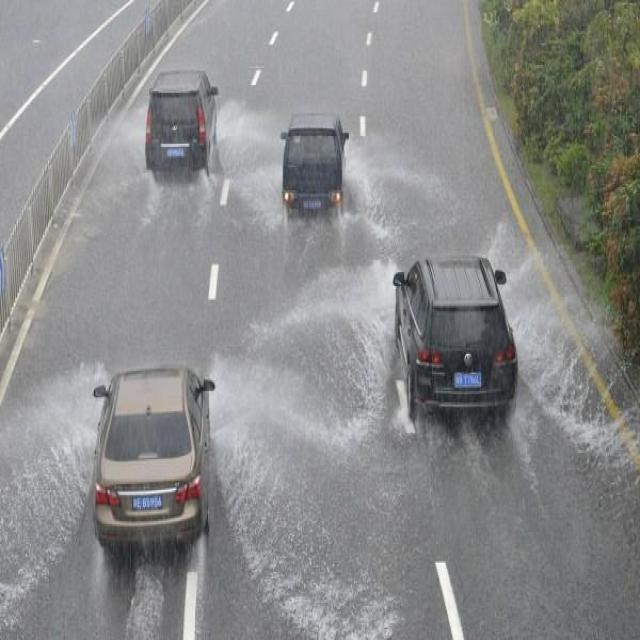car: (90, 360, 214, 543), (392, 253, 516, 418), (142, 68, 216, 170), (278, 108, 347, 210)
